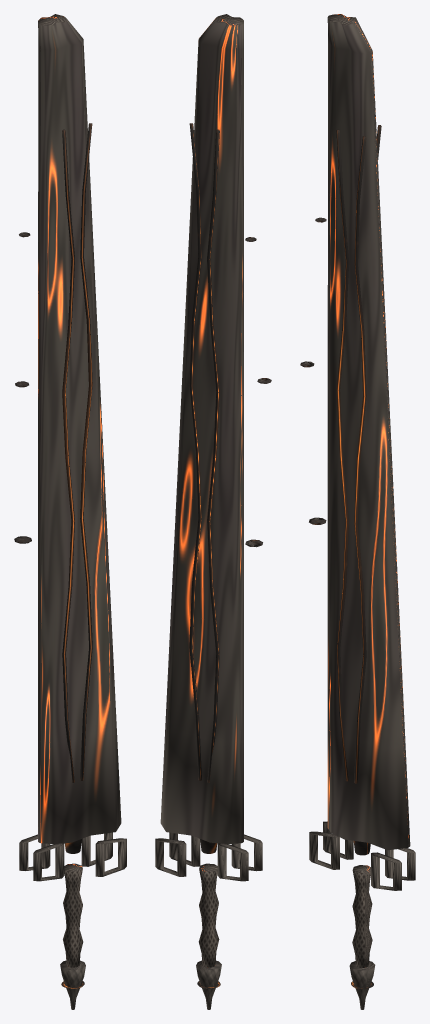
The model's file is sword_14_tectonic_breaker.glb.
3 renders of one model, left to right at view 1: azimuth 30°, elevation 25°; view 2: azimuth 150°, elevation 25°; view 3: azimuth 330°, elevation 25°, orthographic.
Parts seen in each view (by area): view 1: Slab_TectonicBreaker, Faults_LavaLines, Guard_FaultPlates, Grip_StoneWrap, Pommel_Boulder; view 2: Slab_TectonicBreaker, Faults_LavaLines, Guard_FaultPlates, Grip_StoneWrap, Pommel_Boulder; view 3: Slab_TectonicBreaker, Faults_LavaLines, Guard_FaultPlates, Grip_StoneWrap, Pommel_Boulder.
Part boxes in pixels (x1=…): Slab_TectonicBreaker: x1=38, y1=14, x2=121, y2=843; Faults_LavaLines: x1=62, y1=123, x2=92, y2=782; Guard_FaultPlates: x1=19, y1=832, x2=126, y2=881; Grip_StoneWrap: x1=63, y1=863, x2=83, y2=967; Pommel_Boulder: x1=60, y1=960, x2=85, y2=1009; Slab_TectonicBreaker: x1=160, y1=14, x2=243, y2=843; Faults_LavaLines: x1=189, y1=123, x2=219, y2=782; Guard_FaultPlates: x1=155, y1=832, x2=262, y2=881; Grip_StoneWrap: x1=198, y1=863, x2=219, y2=967; Pommel_Boulder: x1=196, y1=960, x2=221, y2=1009; Slab_TectonicBreaker: x1=327, y1=14, x2=410, y2=850; Faults_LavaLines: x1=336, y1=125, x2=381, y2=783; Guard_FaultPlates: x1=309, y1=821, x2=415, y2=890; Grip_StoneWrap: x1=352, y1=865, x2=372, y2=967; Pommel_Boulder: x1=349, y1=961, x2=375, y2=1009.
Size of the model in its own units: 0.2926 by 2.6 by 0.0861.
Materials: 1 (1 with a texture image).
